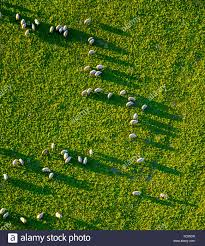sheep: (124, 98, 134, 109), (159, 192, 170, 202), (63, 155, 73, 165), (130, 189, 141, 198), (35, 211, 45, 220), (135, 156, 145, 165), (41, 166, 52, 174), (95, 63, 105, 71), (76, 154, 83, 165), (54, 210, 62, 219), (129, 132, 137, 141), (131, 111, 140, 119), (14, 12, 21, 22), (106, 91, 114, 99), (47, 172, 55, 180), (119, 88, 127, 96), (94, 86, 103, 93), (19, 215, 26, 224), (127, 95, 136, 102), (82, 154, 88, 164), (129, 119, 139, 125), (81, 17, 89, 24), (48, 25, 55, 33), (34, 18, 41, 26), (2, 173, 9, 181), (87, 148, 94, 156), (141, 103, 148, 111), (94, 70, 101, 77), (88, 48, 95, 55), (29, 24, 36, 31), (62, 29, 68, 37), (1, 207, 6, 215), (89, 39, 95, 45)
